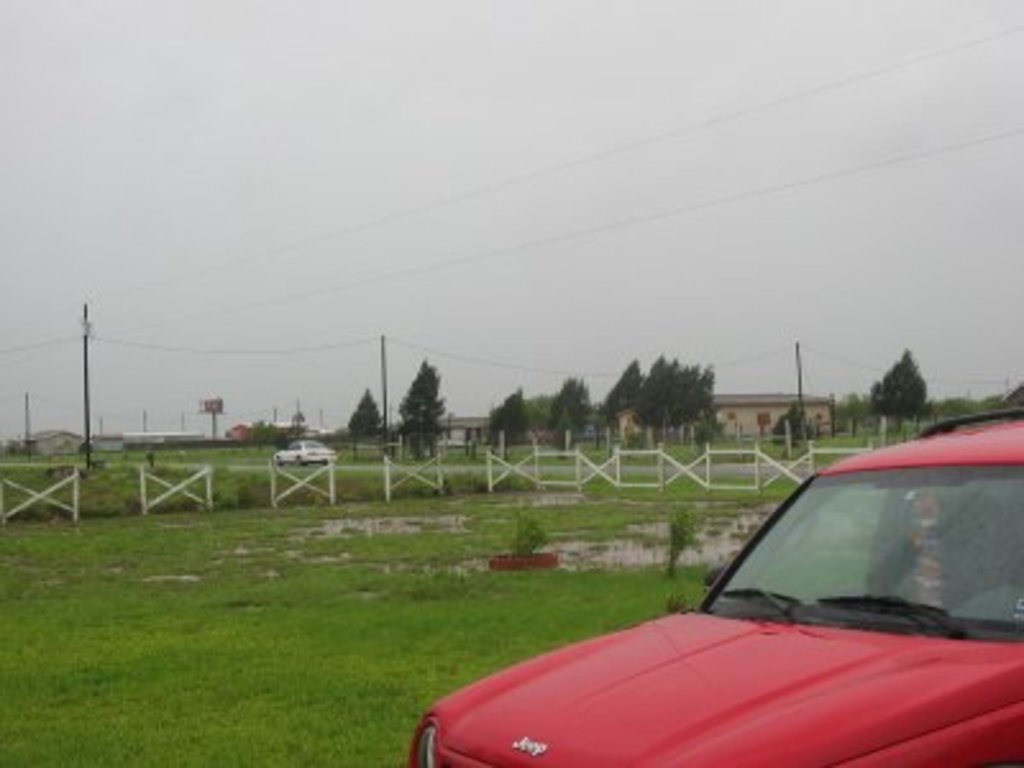Car: (407, 407, 1021, 765), (273, 440, 335, 465)
